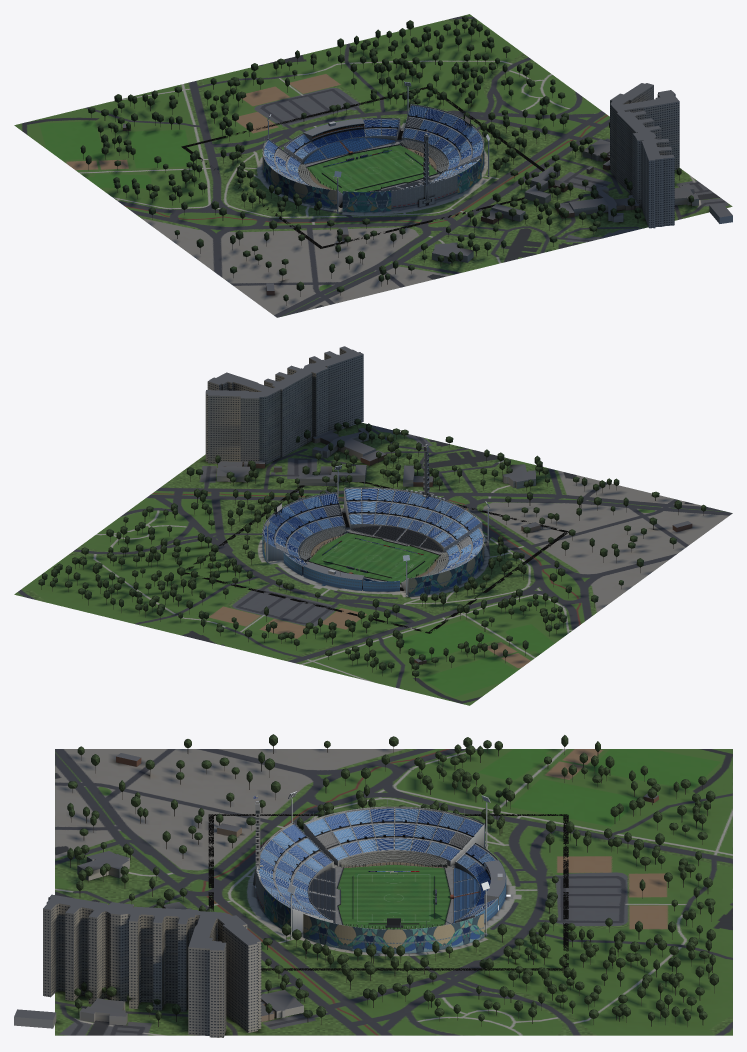
File: centenario.glb
The picture shows the model from 3 angles, top to bottom: view 1: azimuth 30°, elevation 25°; view 2: azimuth 150°, elevation 25°; view 3: azimuth 270°, elevation 25°; orthographic projection. The views are drawn at different scales.
Parts seen in each view (by area): view 1: StadiumBackdrop, EstadioCentenario; view 2: StadiumBackdrop, EstadioCentenario; view 3: StadiumBackdrop, EstadioCentenario.
Boxes of the visible parts, x1,y1,x2,y2 form: StadiumBackdrop: (14,14,732,317); EstadioCentenario: (181,81,555,248); StadiumBackdrop: (14,346,732,705); EstadioCentenario: (185,439,569,633); StadiumBackdrop: (14,734,732,1037); EstadioCentenario: (206,791,568,970).
Bounding box in the file's own units: 645 × 107 × 679.
Materials: 49 (23 with a texture image).
